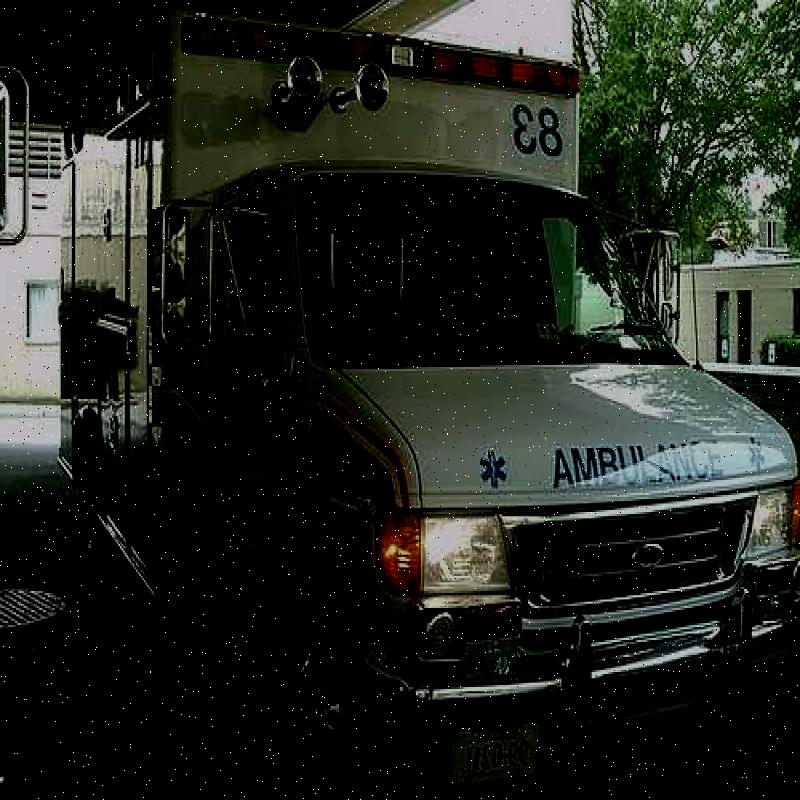AmbulanceSiren: (170, 4, 604, 99)
